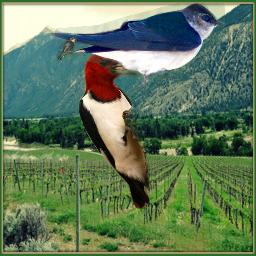Cuckoo: (57, 37, 77, 60)
Swallow: (51, 3, 225, 89)
Woodpecker: (78, 52, 150, 209)
